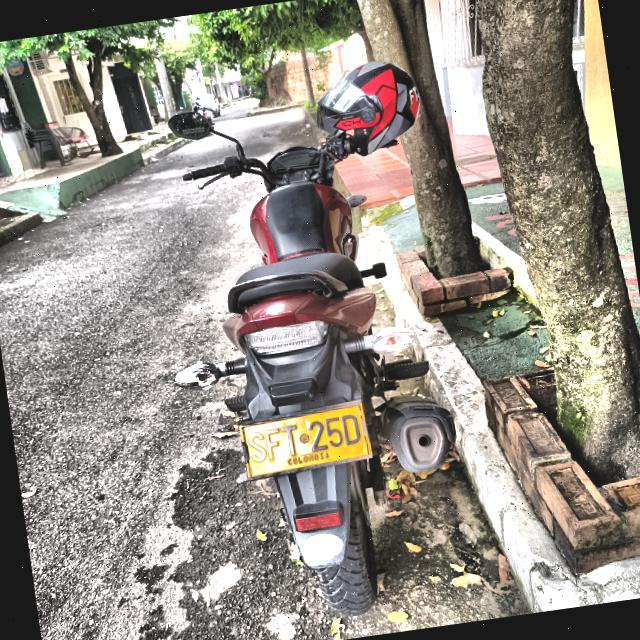plate: (238, 399, 374, 482)
